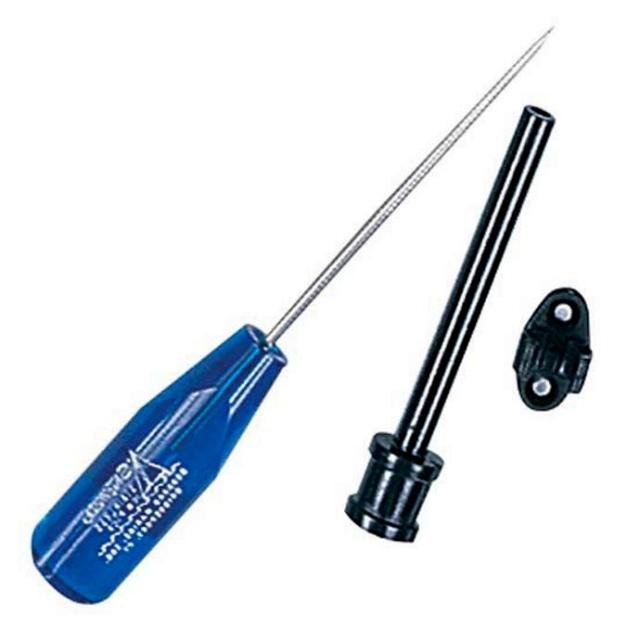ice pick: (27, 24, 557, 606)
